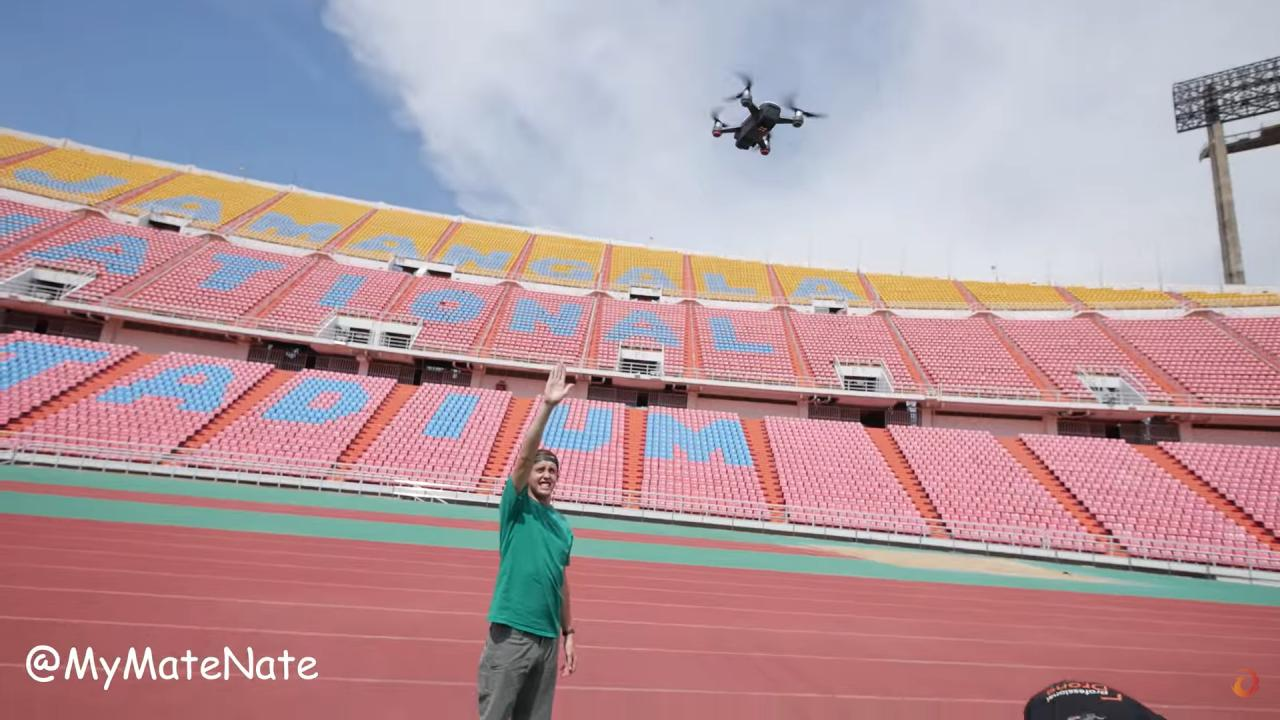Drone: (683, 54, 844, 171)
